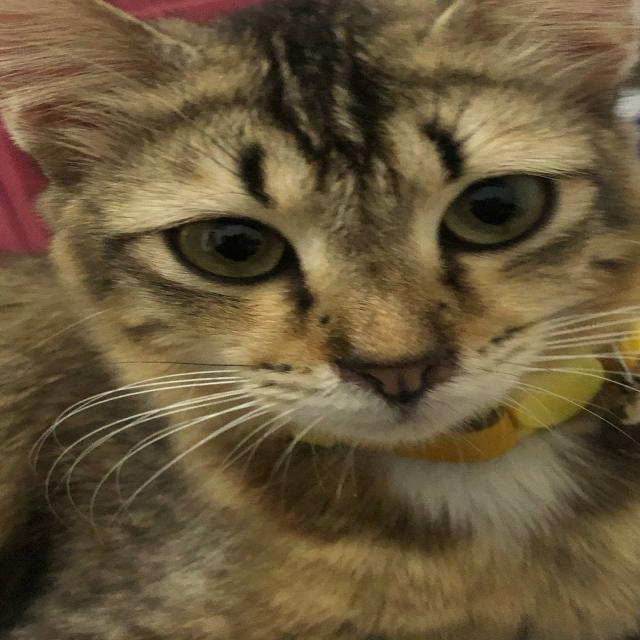da khoe manh: (0, 317, 365, 640)
